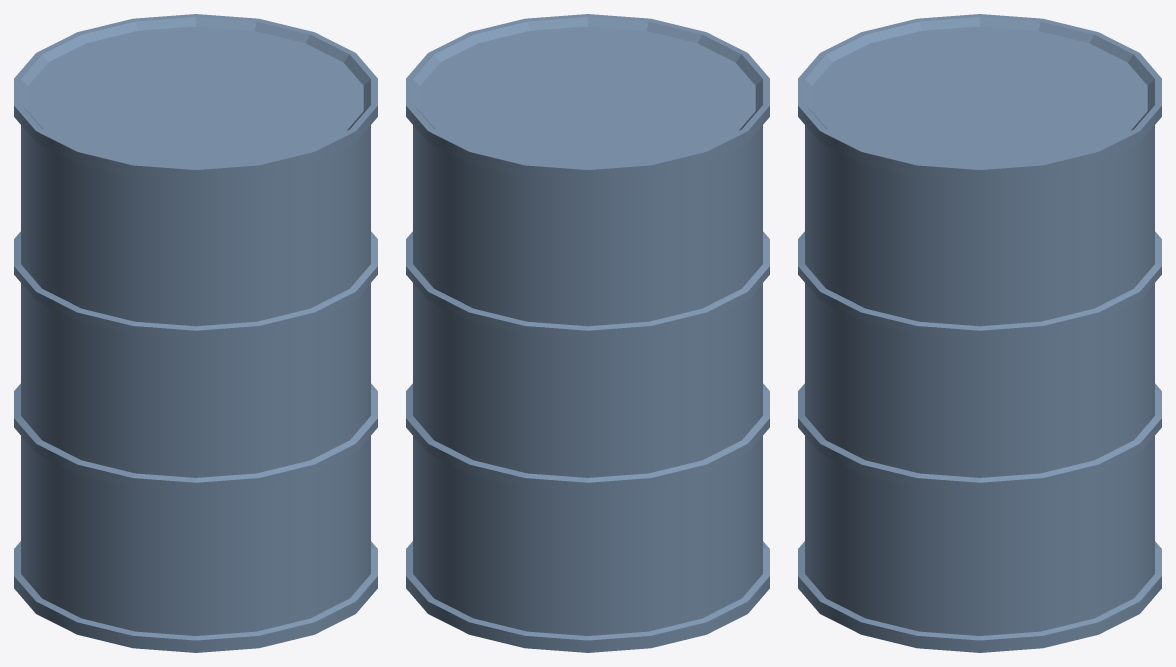
The model's file is rcBarrelNormal.FBX.
3 renders of one model, left to right at view 1: azimuth 30°, elevation 25°; view 2: azimuth 150°, elevation 25°; view 3: azimuth 270°, elevation 25°, orthographic.
Parts seen in each view (by area): view 1: rcBarrelNormal; view 2: rcBarrelNormal; view 3: rcBarrelNormal.
Boxes of the visible parts, x1=… form: rcBarrelNormal: x1=14, y1=14, x2=377, y2=652; rcBarrelNormal: x1=406, y1=14, x2=769, y2=652; rcBarrelNormal: x1=798, y1=14, x2=1161, y2=652.
Bounding box in the file's own units: 0.52 × 0.75 × 0.5121.
